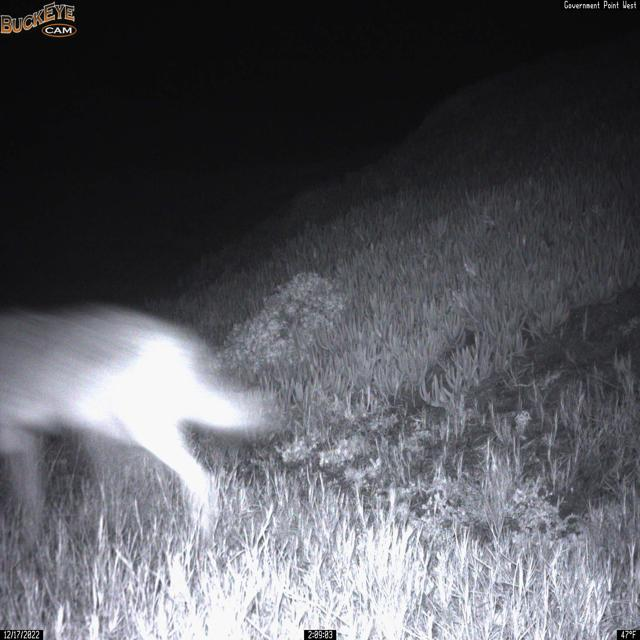coyote: (0, 294, 281, 556)
